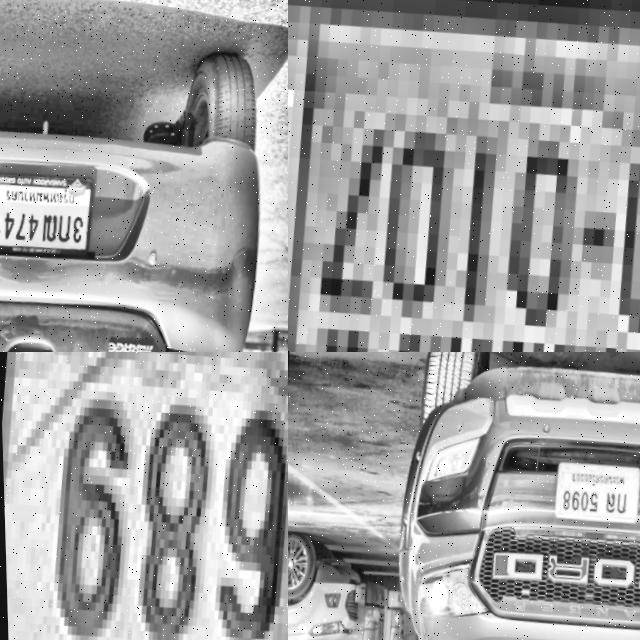license-plate: (288, 0, 640, 352), (0, 352, 288, 640), (0, 165, 96, 265), (550, 459, 640, 530)
